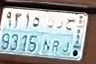1: (22, 14, 30, 51)
3: (11, 13, 23, 50)
5: (28, 16, 40, 53)
9: (1, 11, 12, 50)
J: (63, 19, 75, 53)
N: (42, 18, 54, 51)
R: (53, 20, 64, 52)
